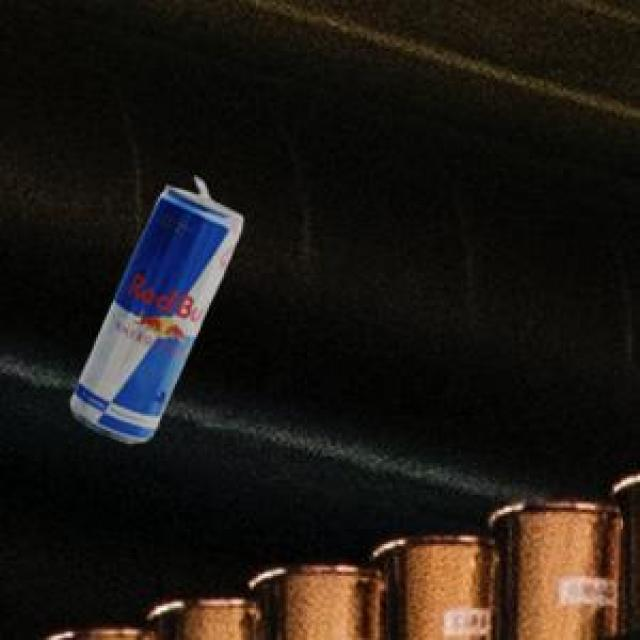Can: (67, 174, 240, 441)
